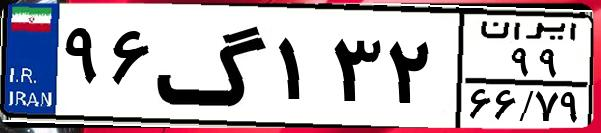1: (270, 28, 330, 110)
2: (385, 28, 445, 110)
3: (330, 28, 385, 110)
6: (110, 28, 156, 98), (470, 70, 495, 125), (495, 70, 520, 125)
7: (535, 70, 560, 125)
9: (57, 26, 110, 100), (560, 70, 590, 125), (537, 27, 568, 80), (508, 27, 537, 80)
گ: (156, 12, 270, 120)
